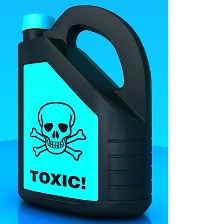insecticide: (13, 2, 154, 222)
